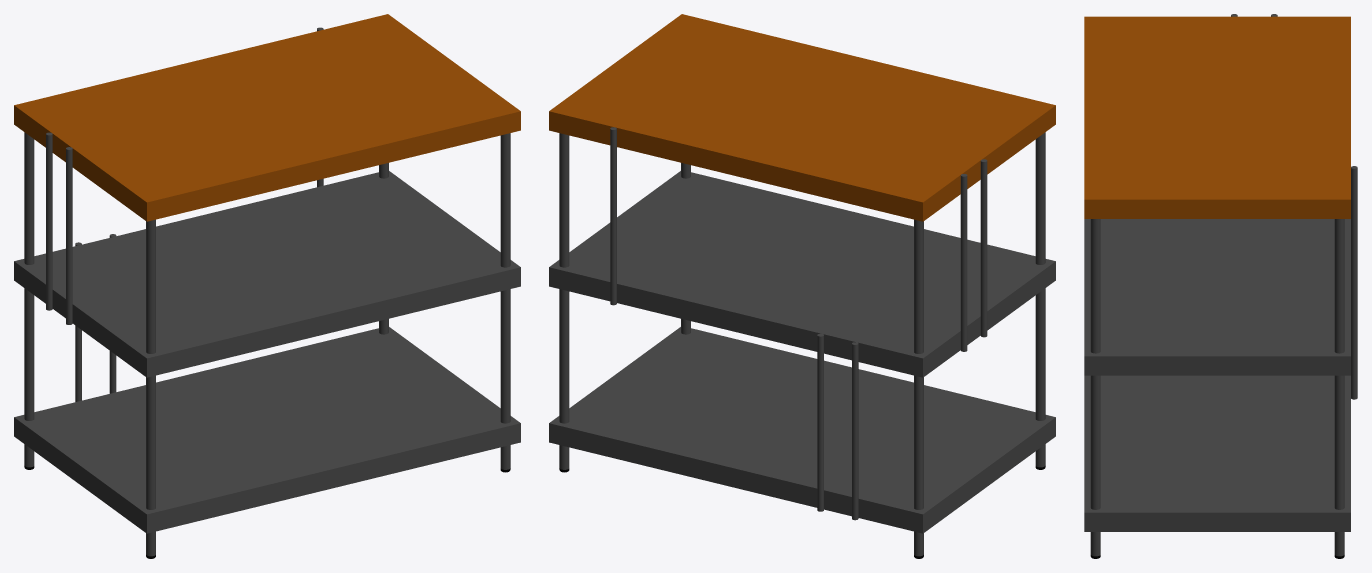
File: Столик-модель.obj
3 views of the same model, side by side, from view 1: azimuth 30°, elevation 25°; view 2: azimuth 150°, elevation 25°; view 3: azimuth 270°, elevation 25° (orthographic).
Size of the model in its own units: 0.66 by 0.6 by 0.41.
